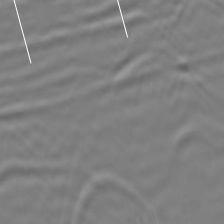Utility: (72, 166, 158, 224)
